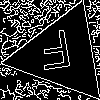F: (36, 29, 76, 80)
